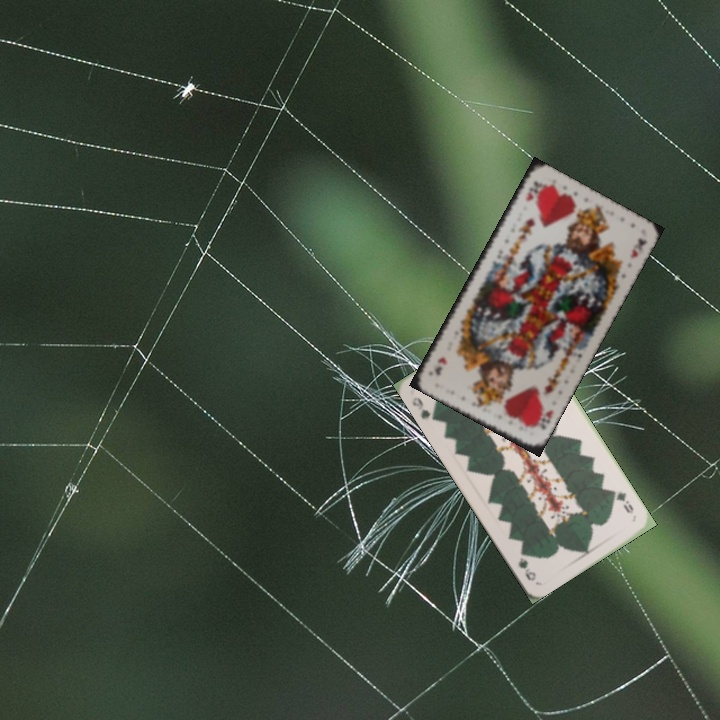G9: (408, 393, 439, 423), (608, 486, 636, 516)
HK: (528, 406, 555, 433), (523, 176, 545, 204)
